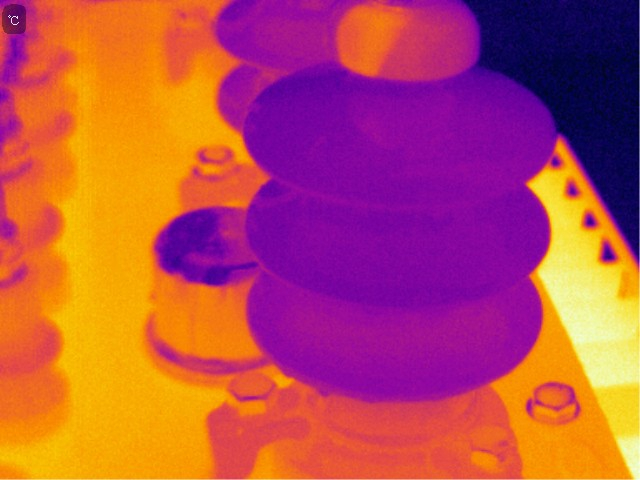Oil: (330, 1, 478, 84), (254, 190, 295, 208), (316, 380, 335, 400)
